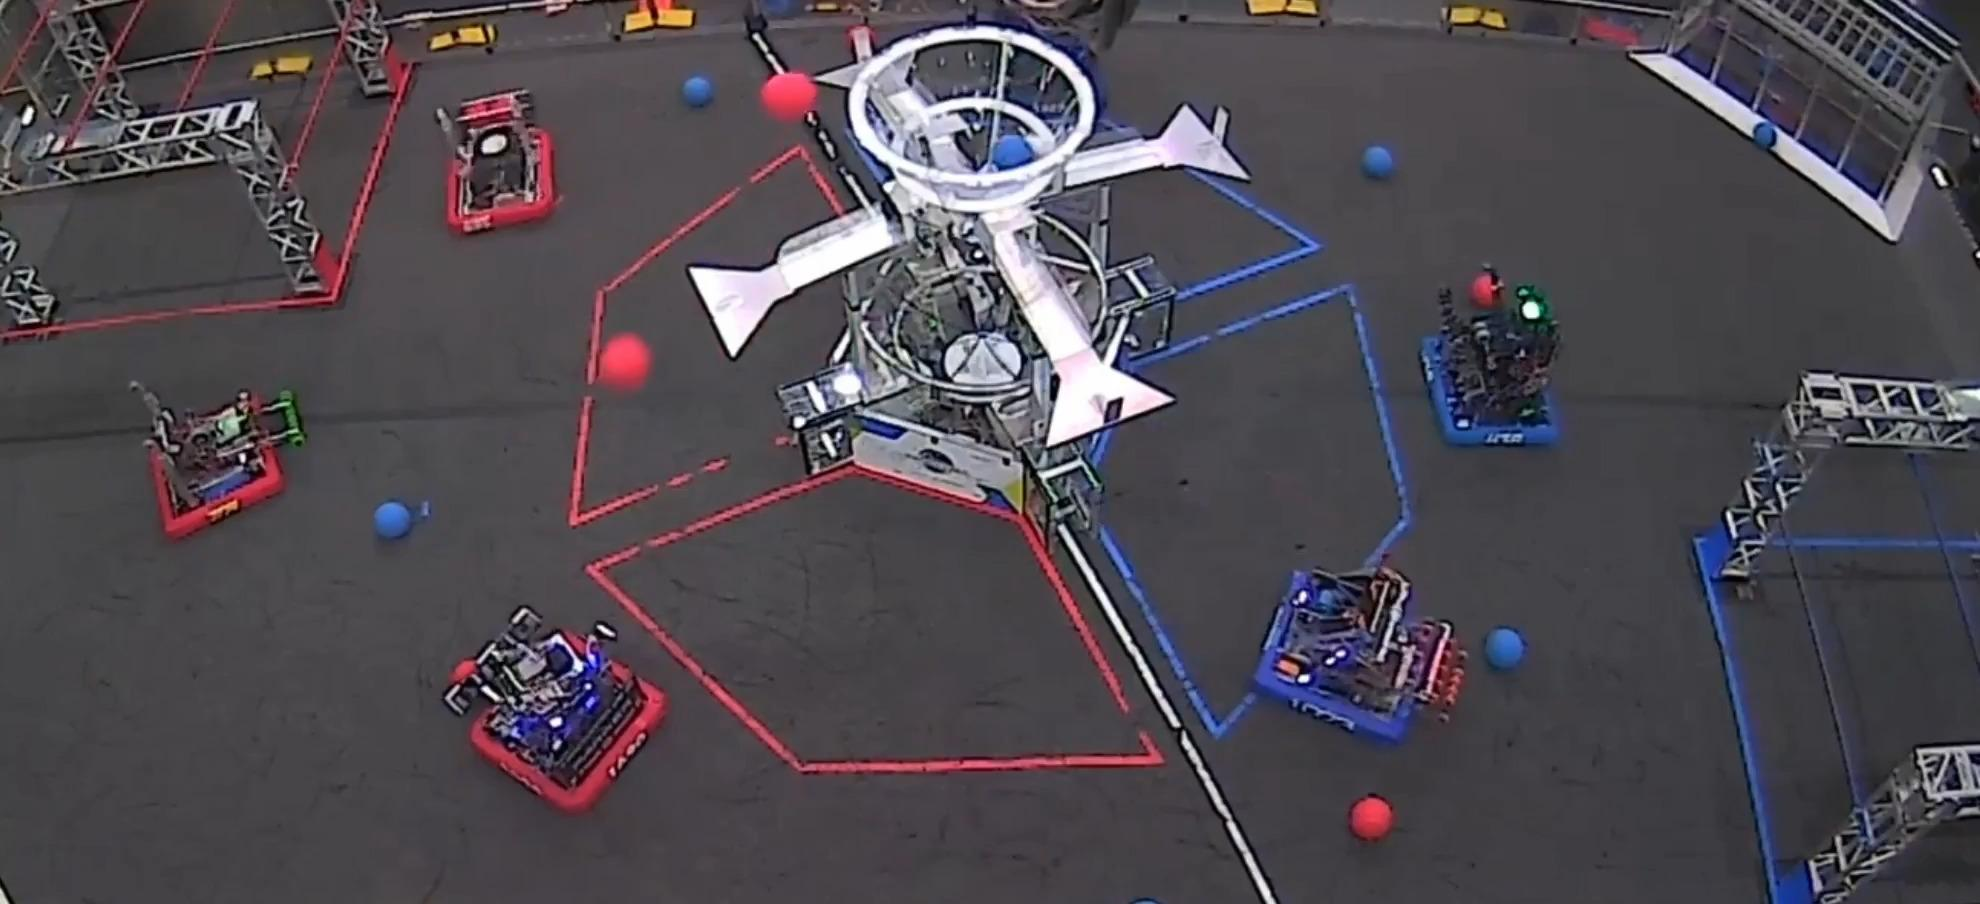Robots: (443, 609, 665, 812), (1253, 566, 1465, 742), (130, 381, 306, 537), (1422, 266, 1560, 444), (437, 90, 556, 234), (987, 3, 1112, 135)
